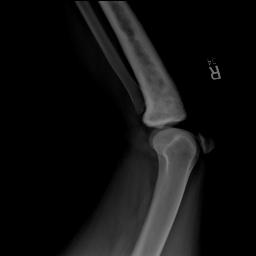cancer: (96, 0, 187, 127)
